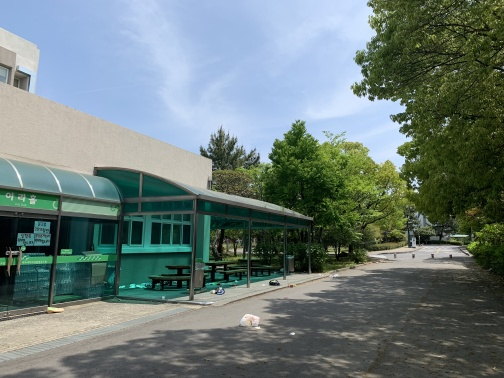Ara Hall: (1, 140, 319, 321)
